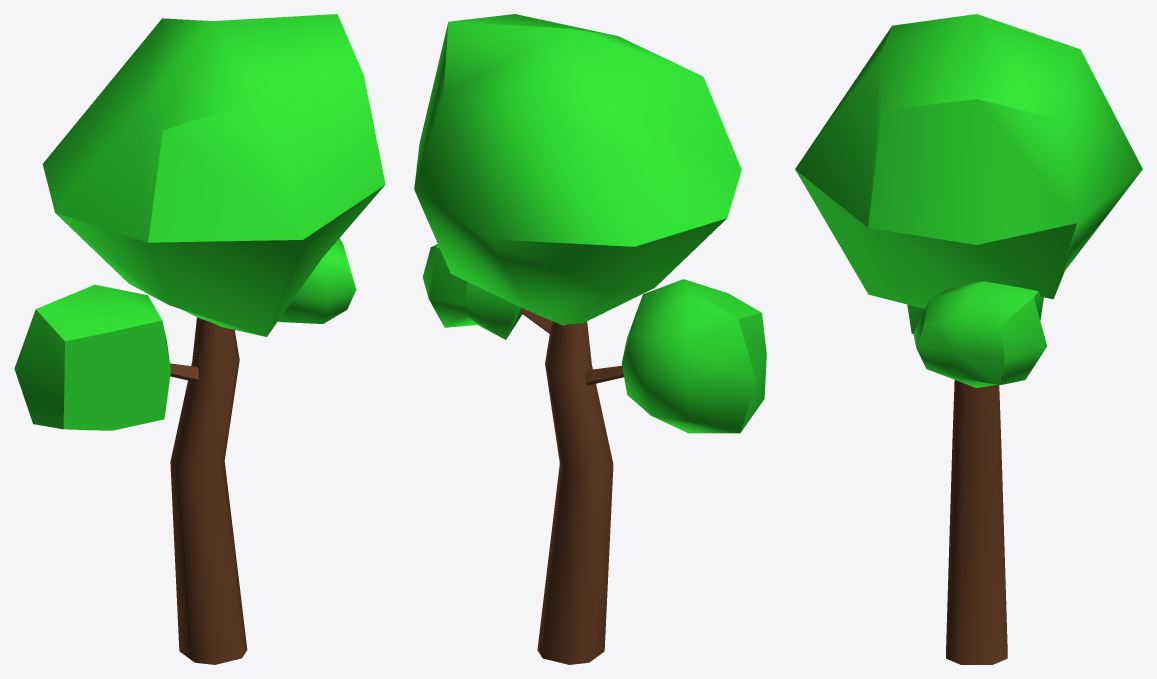
The model's file is Tree_1.fbx.
3 renders of one model, left to right at view 1: azimuth 30°, elevation 25°; view 2: azimuth 150°, elevation 25°; view 3: azimuth 270°, elevation 25°, orthographic. The views are drawn at different scales.
Visible parts, largest first — view 1: Tree_1; view 2: Tree_1; view 3: Tree_1.
Boxes of the visible parts, box(x1,y1,x2,y2) form: Tree_1: box(14, 14, 385, 664); Tree_1: box(414, 14, 766, 664); Tree_1: box(795, 14, 1142, 664).
Size of the model in its own units: 132 by 228 by 113.
